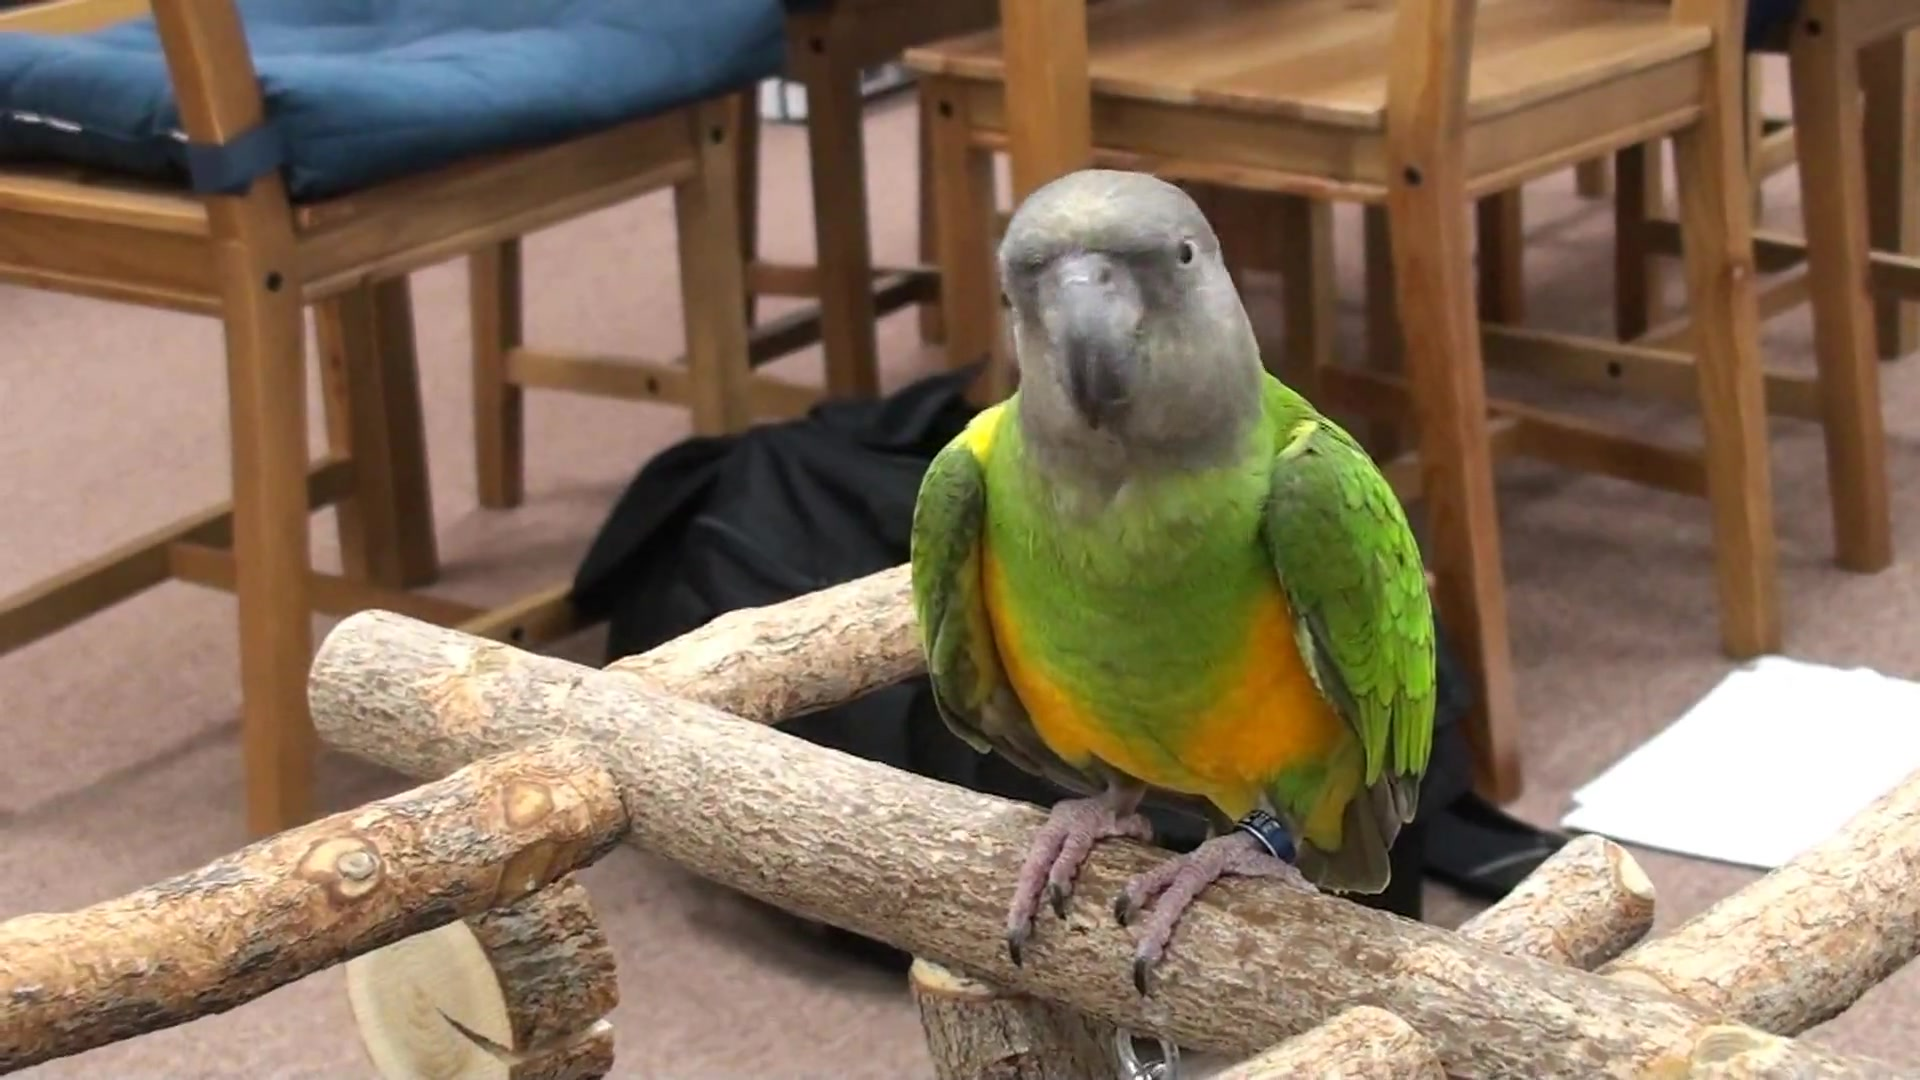bird: (911, 169, 1441, 998)
